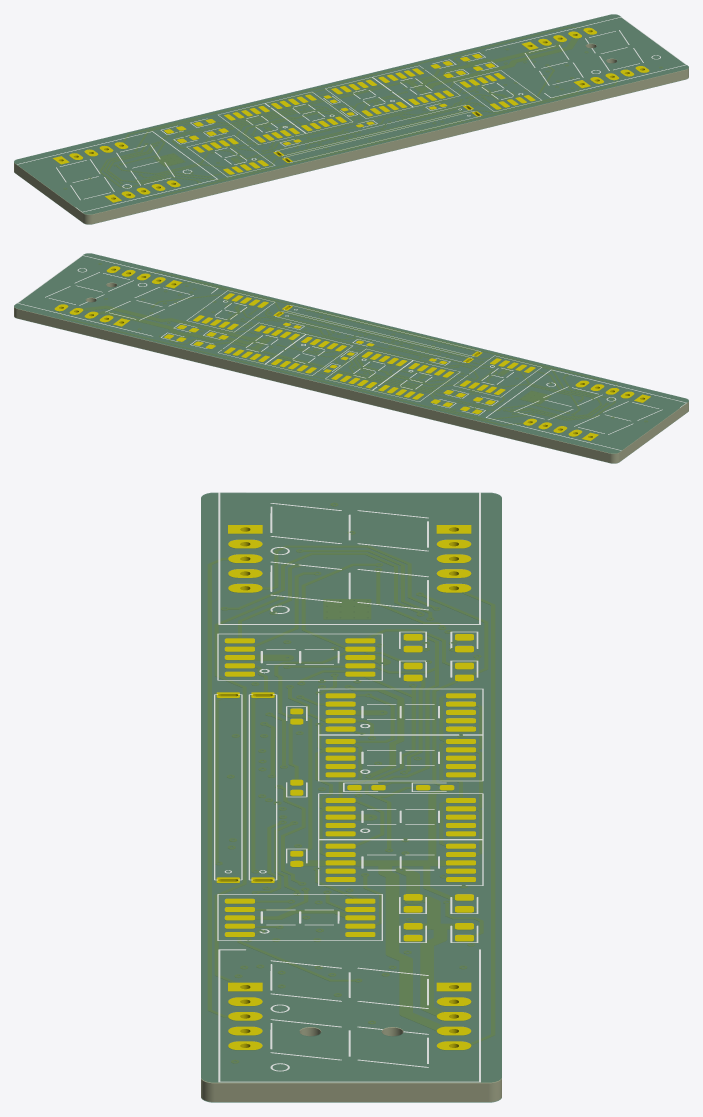
The model's file is display-board-v3.0-bare.glb.
3 views of the same model, one above another, from view 1: azimuth 30°, elevation 25°; view 2: azimuth 150°, elevation 25°; view 3: azimuth 270°, elevation 25° (orthographic). The views are drawn at different scales.
Visible parts, largest first — view 1: =>[0:1:1:7], =>[0:1:1:9], =>[0:1:1:2], =>[0:1:1:5]; view 2: =>[0:1:1:7], =>[0:1:1:9], =>[0:1:1:2], =>[0:1:1:5]; view 3: =>[0:1:1:7], =>[0:1:1:9], =>[0:1:1:2], =>[0:1:1:5].
Part boxes in pixels (x1=…): =>[0:1:1:7]: x1=14, y1=14, x2=688, y2=224; =>[0:1:1:9]: x1=14, y1=15, x2=688, y2=224; =>[0:1:1:2]: x1=53, y1=27, x2=662, y2=202; =>[0:1:1:5]: x1=17, y1=17, x2=686, y2=212; =>[0:1:1:7]: x1=14, y1=253, x2=688, y2=463; =>[0:1:1:9]: x1=14, y1=254, x2=688, y2=463; =>[0:1:1:2]: x1=54, y1=263, x2=650, y2=440; =>[0:1:1:5]: x1=17, y1=255, x2=686, y2=450; =>[0:1:1:7]: x1=201, y1=492, x2=501, y2=1102; =>[0:1:1:9]: x1=201, y1=494, x2=501, y2=1101; =>[0:1:1:2]: x1=208, y1=503, x2=494, y2=1062; =>[0:1:1:5]: x1=214, y1=492, x2=483, y2=1082.
Bounding box in the file's own units: 0.102 × 0.00166 × 0.022.
